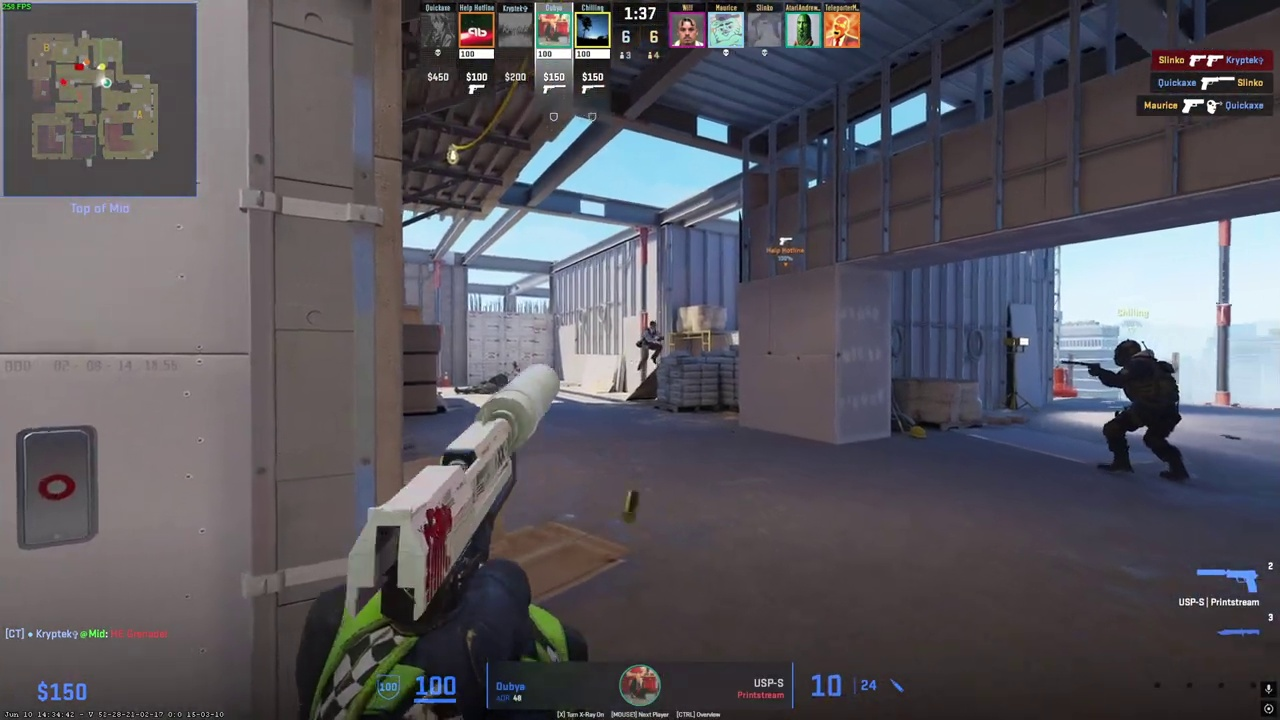CT: (1097, 339, 1186, 482)
Terrorist: (639, 321, 659, 368)
